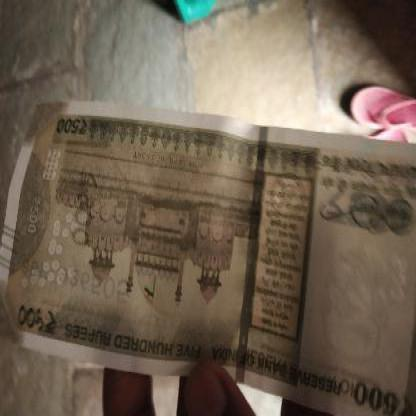New500Back: (0, 102, 415, 408)
